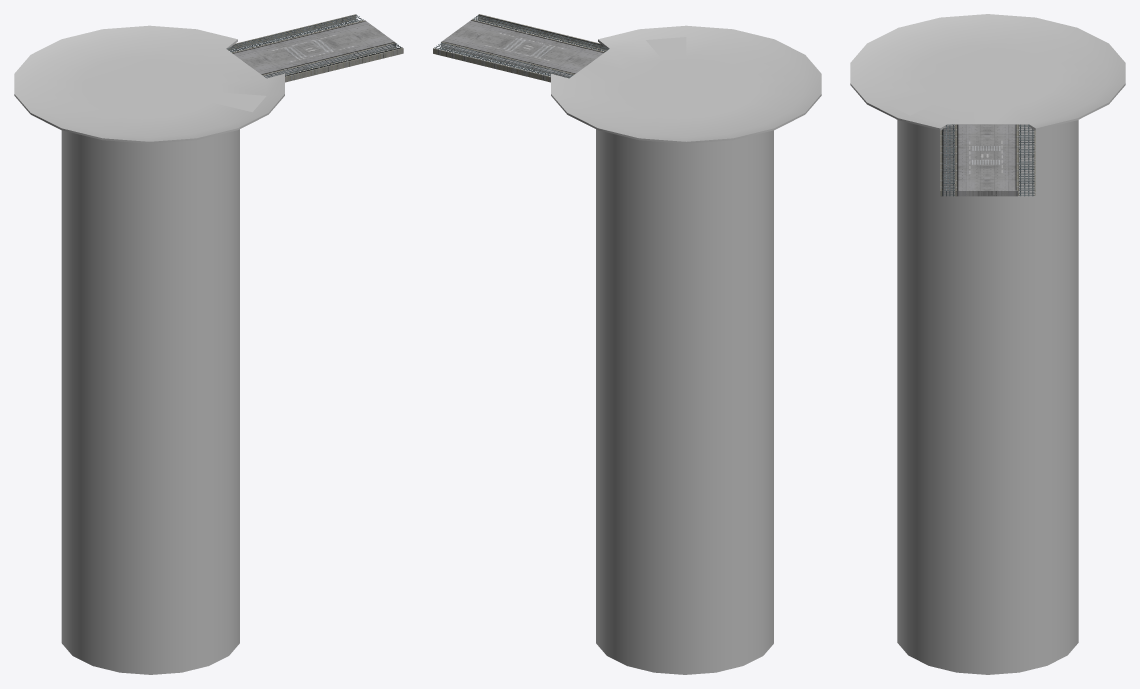
File: roof top.FBX
3 renders of one model, left to right at view 1: azimuth 30°, elevation 25°; view 2: azimuth 150°, elevation 25°; view 3: azimuth 270°, elevation 25°, orthographic.
Parts seen in each view (by area): view 1: Cylinder001, Cylinder002, Box003; view 2: Cylinder001, Cylinder002, Box003; view 3: Cylinder001, Cylinder002, Box003.
Boxes of the visible parts, bbox=[...] form: Cylinder001: bbox=[61, 129, 239, 674]; Cylinder002: bbox=[14, 25, 284, 143]; Box003: bbox=[227, 14, 403, 82]; Cylinder001: bbox=[596, 129, 773, 674]; Cylinder002: bbox=[551, 25, 821, 143]; Box003: bbox=[433, 14, 609, 82]; Cylinder001: bbox=[897, 120, 1078, 674]; Cylinder002: bbox=[850, 14, 1125, 130]; Box003: bbox=[940, 124, 1035, 196].
Bounding box in the file's own units: 213 × 322 × 143.
